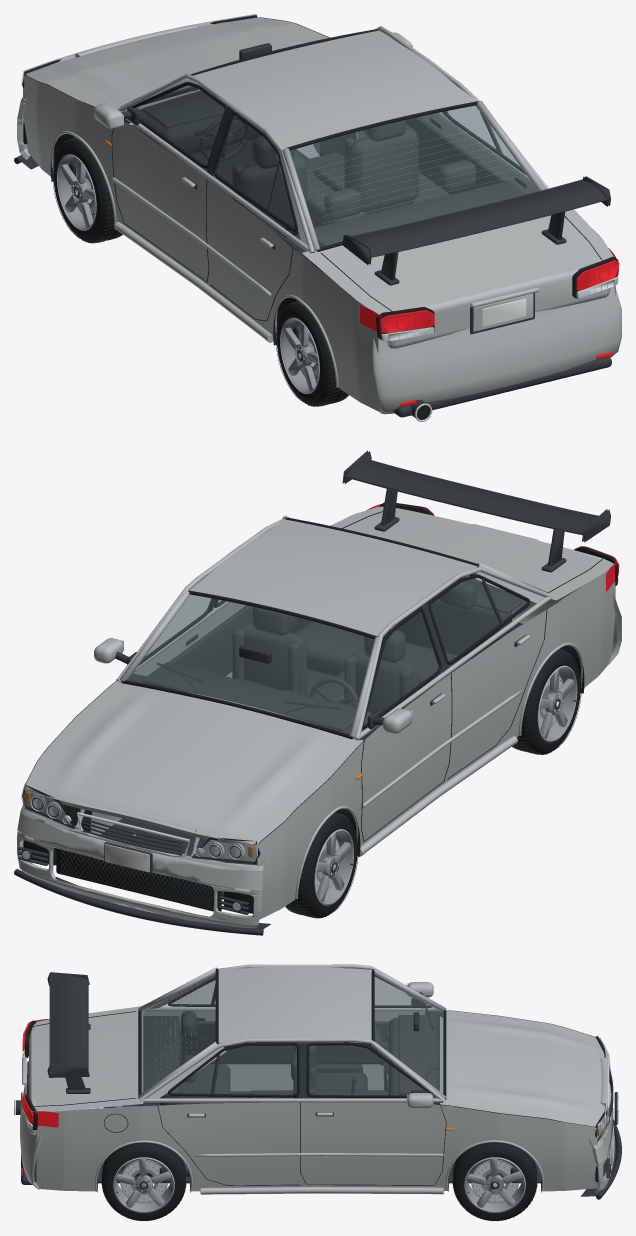
Rendered from Sedan01_LOD0.fbx.
The picture shows the model from 3 angles, top to bottom: view 1: azimuth 30°, elevation 25°; view 2: azimuth 150°, elevation 25°; view 3: azimuth 270°, elevation 25°; orthographic projection. The views are drawn at different scales.
Visible parts, largest first — view 1: Body, Glass, Wheel_FL, Wheel_RL; view 2: Body, Glass, Wheel_FL, Wheel_RL; view 3: Body, Glass, Wheel_FR, Wheel_RR.
Part boxes in pixels (x1,y1,x2,y2): Body: [14, 14, 621, 421]; Glass: [21, 71, 538, 247]; Wheel_FL: [52, 137, 122, 243]; Wheel_RL: [275, 301, 348, 406]; Body: [14, 450, 621, 935]; Glass: [21, 573, 526, 863]; Wheel_FL: [285, 812, 358, 918]; Wheel_RL: [512, 649, 581, 754]; Body: [14, 964, 621, 1199]; Glass: [141, 972, 611, 1140]; Wheel_FR: [452, 1142, 537, 1221]; Wheel_RR: [101, 1142, 186, 1220].
Size of the model in its own units: 2.14 by 1.48 by 4.68.
